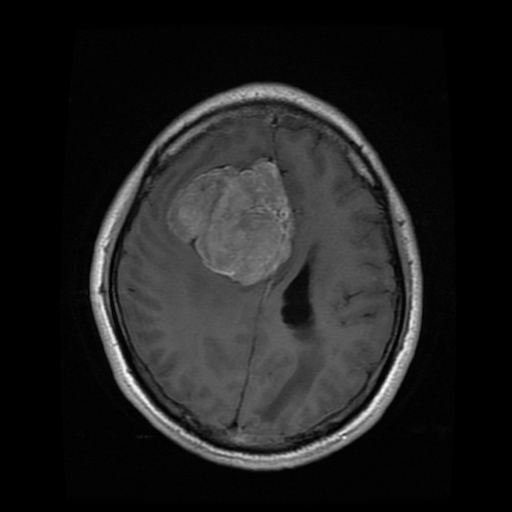meningioma: (167, 154, 292, 285)
